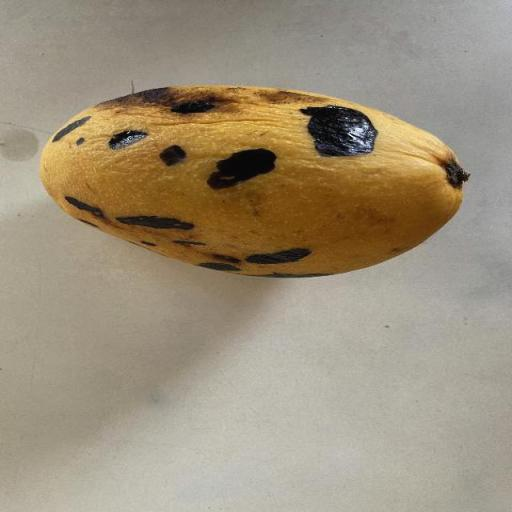mango-overripe: (27, 75, 482, 301)
